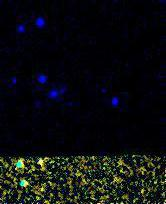star: (26, 151, 56, 181)
